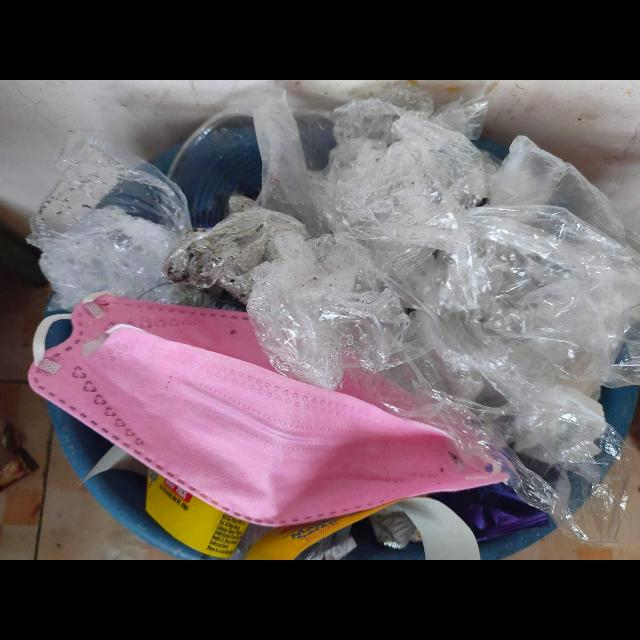plastic_bag: (162, 86, 640, 546), (26, 135, 246, 319)
